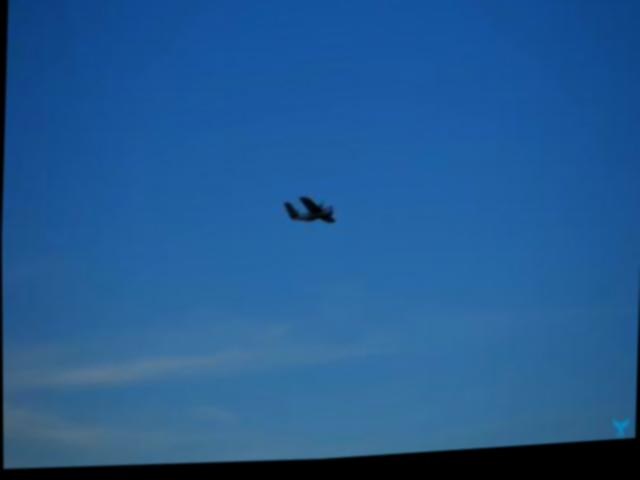uav: (279, 186, 342, 243)
